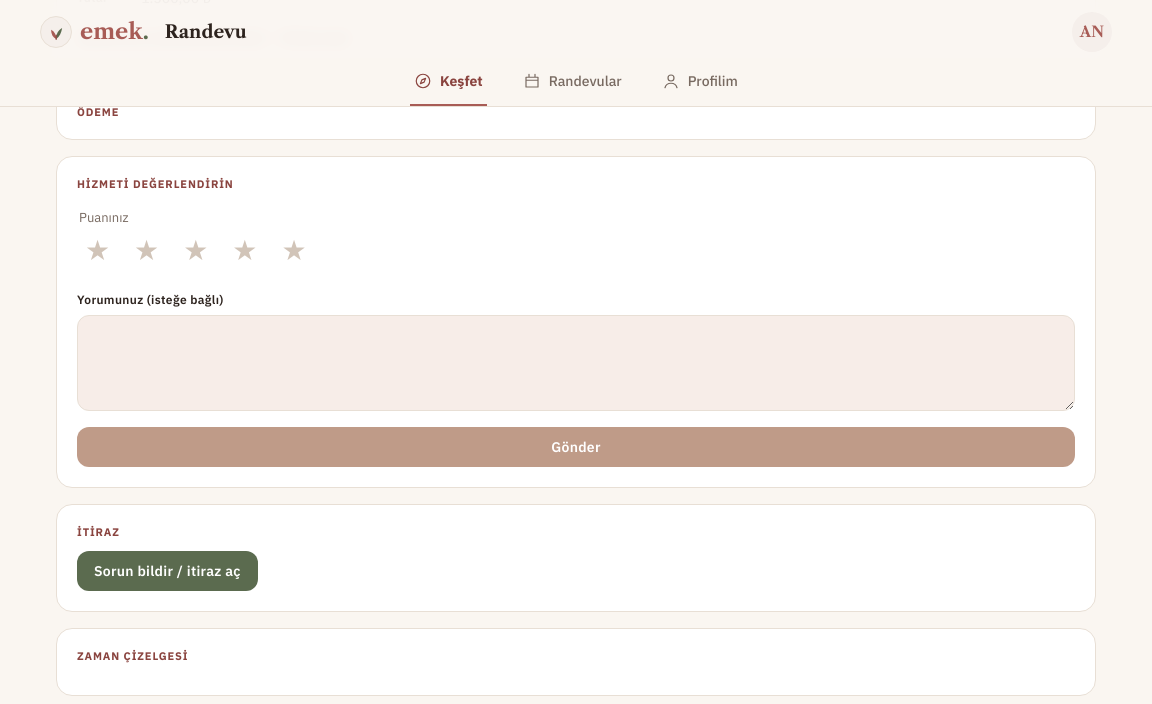
Scenario: Randevu detayı › itiraz açılır; açık itiraz varken ikinci form gösterilmez
(page scrolled)
Click the button "Sorun bildir / itiraz aç". click: coordinates (167, 571)
box: [77,551,258,591]
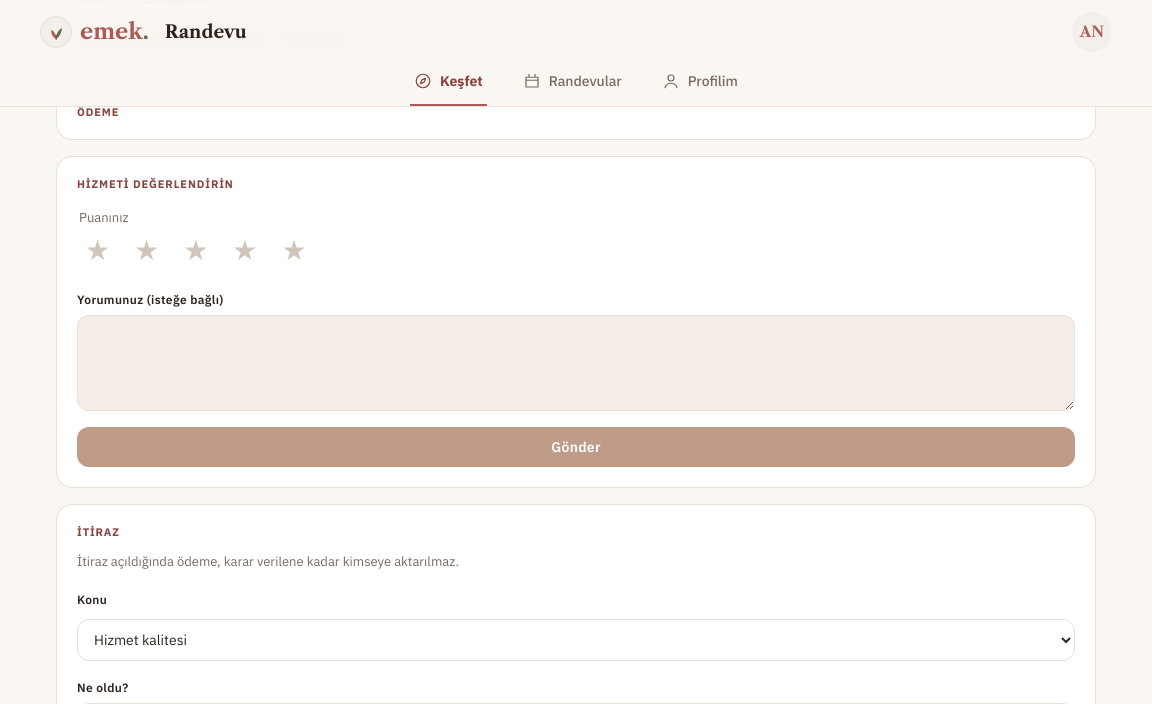
Select "Hasar" in the dropdown labelled "Konu". click: coordinates (576, 640)
box: [77,619,1075,661]
(page scrolled)
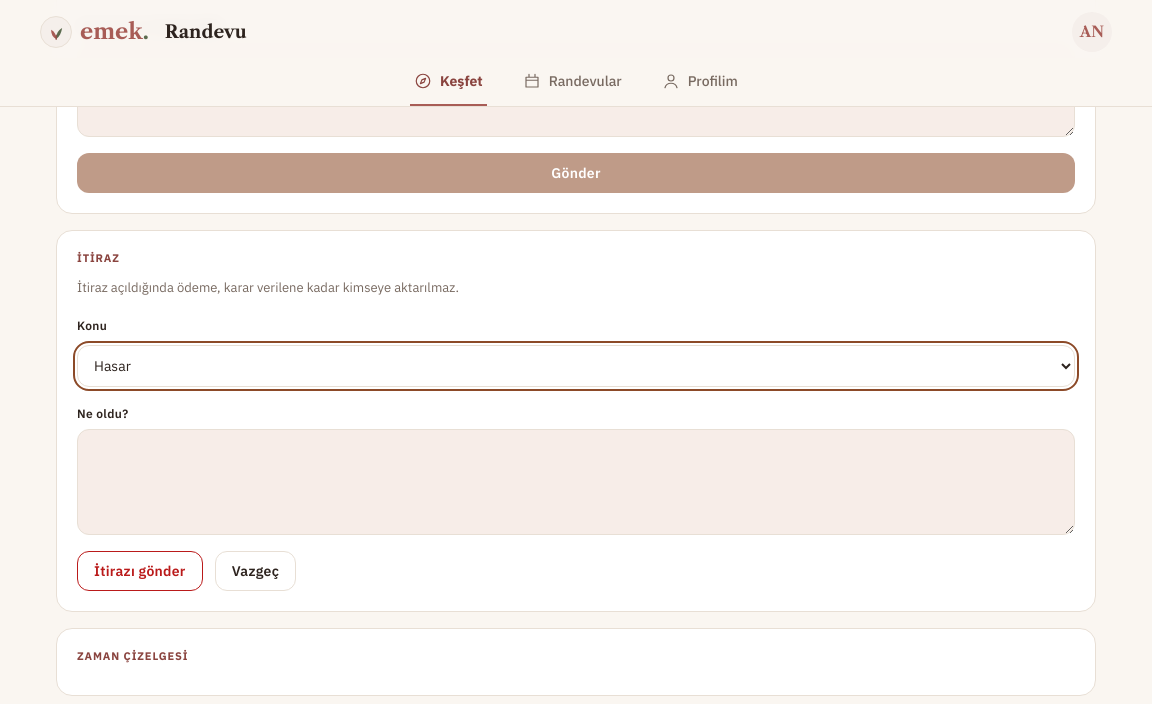
Type "Vazo kırıldı" into the text box labelled "Ne oldu?". click: coordinates (576, 482)
box: [77,429,1075,535]
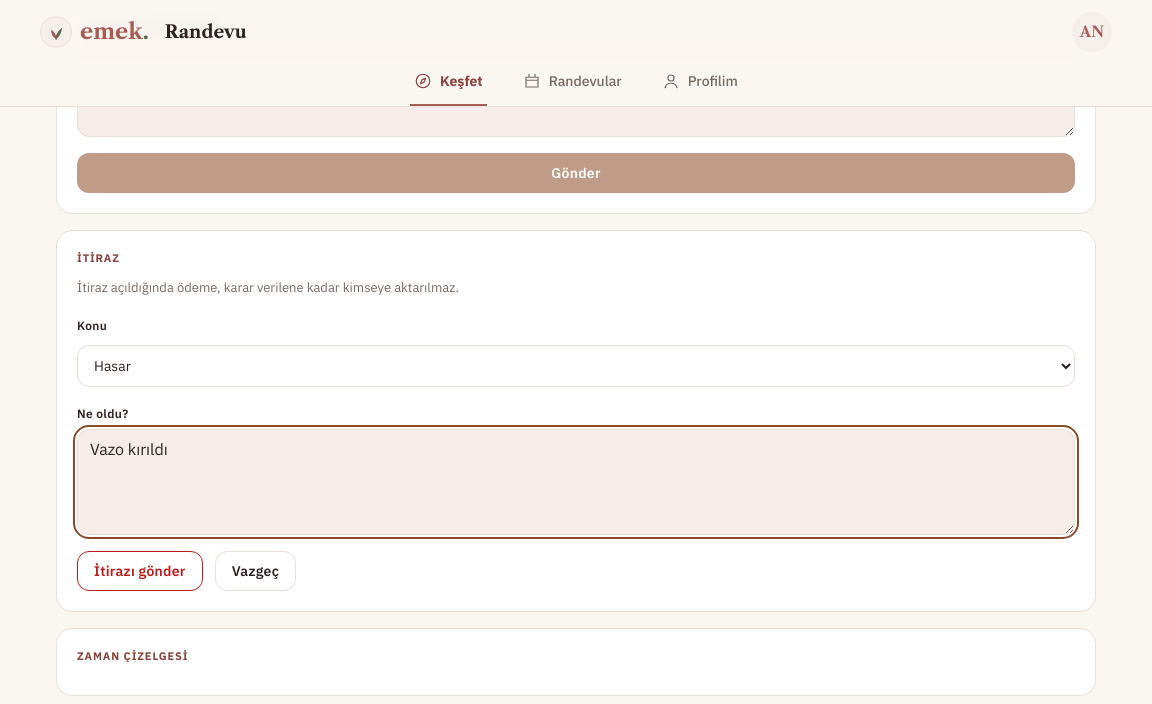
Click the button "İtirazı gönder". click: coordinates (140, 571)
box: [77,551,203,591]
(page scrolled)
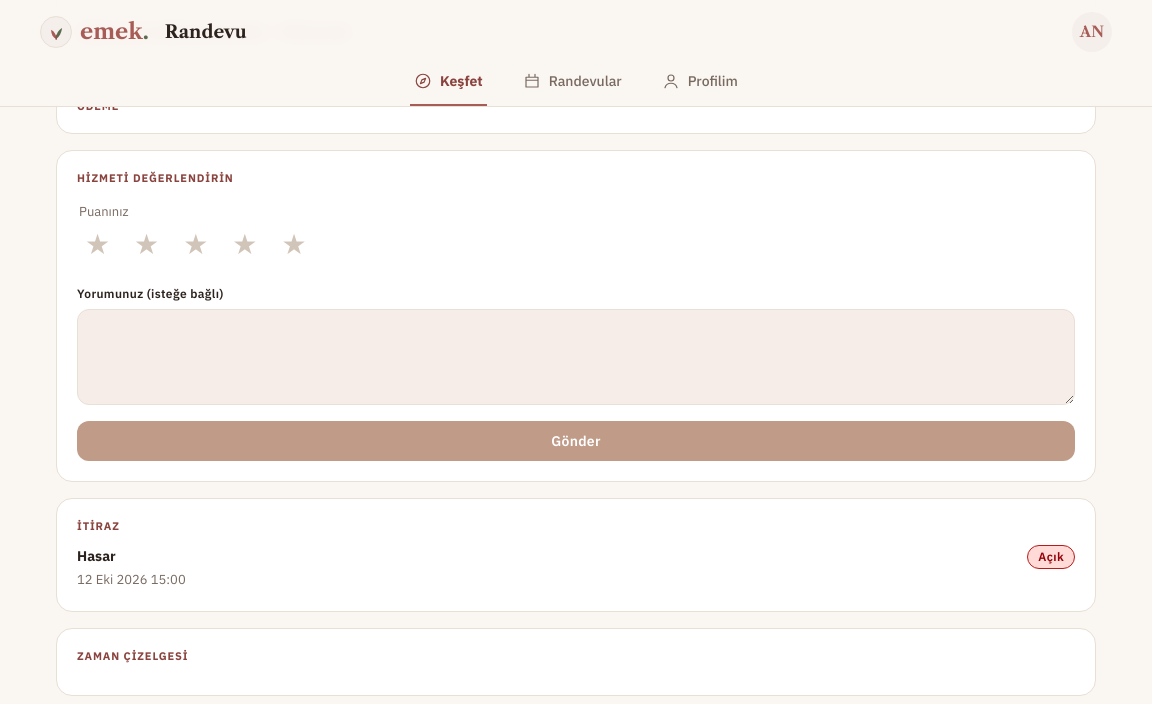
Expected: the button "Sorun bildir / itiraz aç" is not shown
Expected: the text "Hasar" is shown, [77,545,116,567]
Expected: the text "Açık" is shown, [1027,545,1075,569]
